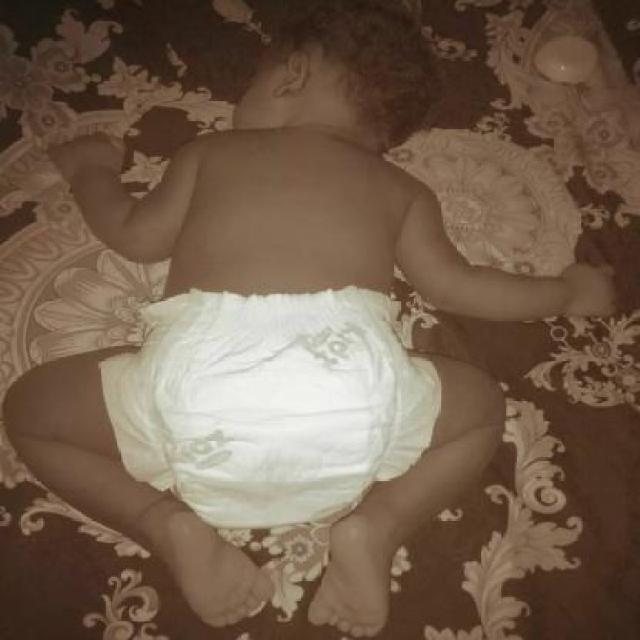baby: (1, 10, 612, 636)
